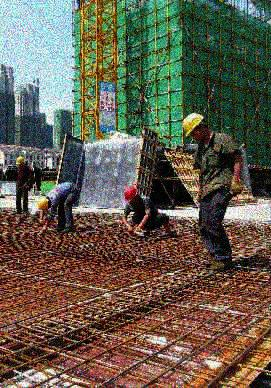helmet: (180, 112, 211, 144), (124, 184, 142, 208), (36, 197, 50, 213), (14, 155, 27, 169)
